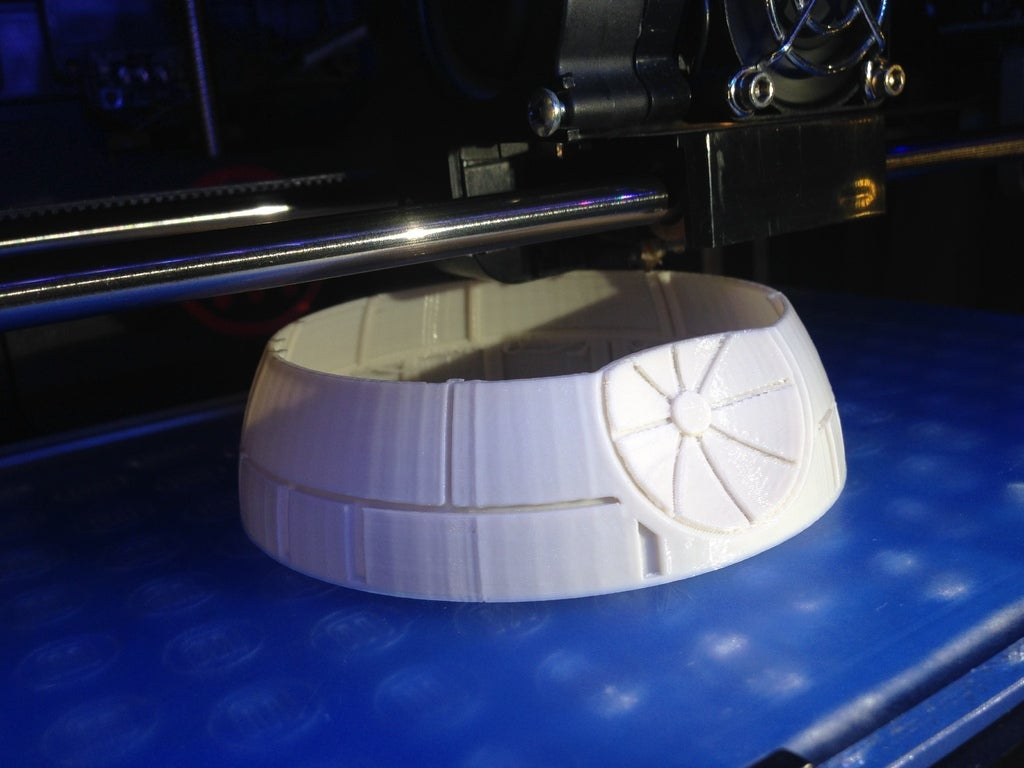Good: (235, 261, 863, 616)
